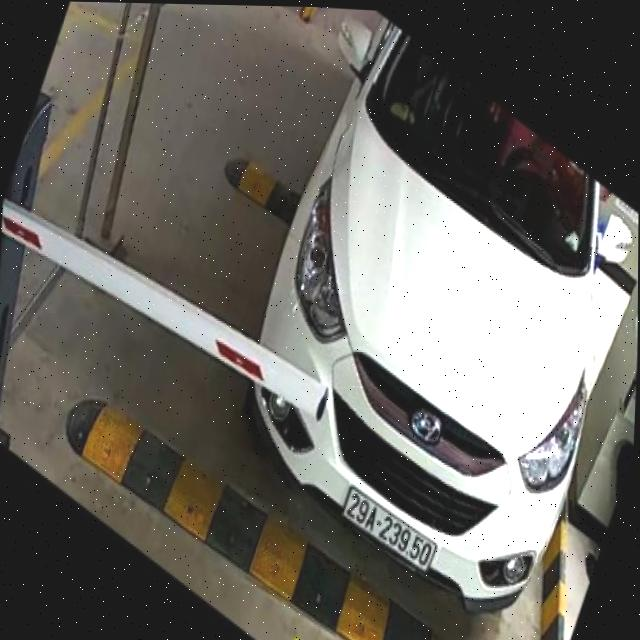car: (237, 5, 640, 628)
plate: (334, 479, 443, 578)
